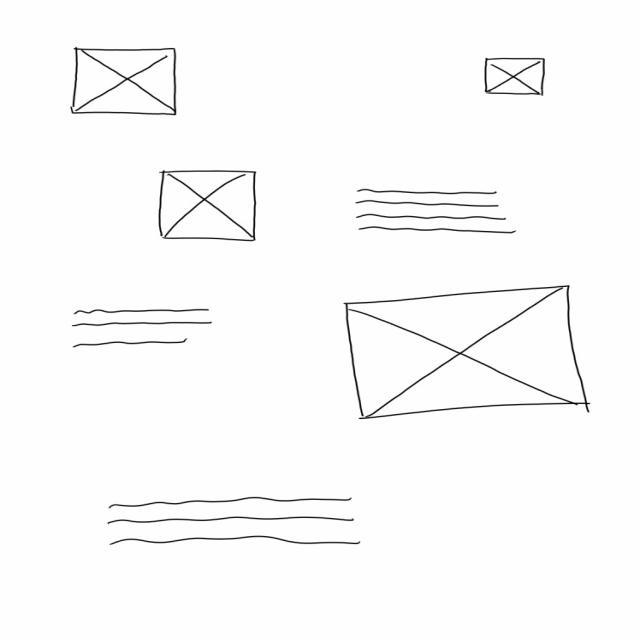image: (344, 284, 593, 423), (70, 48, 180, 118), (158, 170, 260, 244), (484, 56, 548, 100)
textbox: (106, 497, 364, 549), (353, 187, 527, 238), (69, 305, 217, 352)
